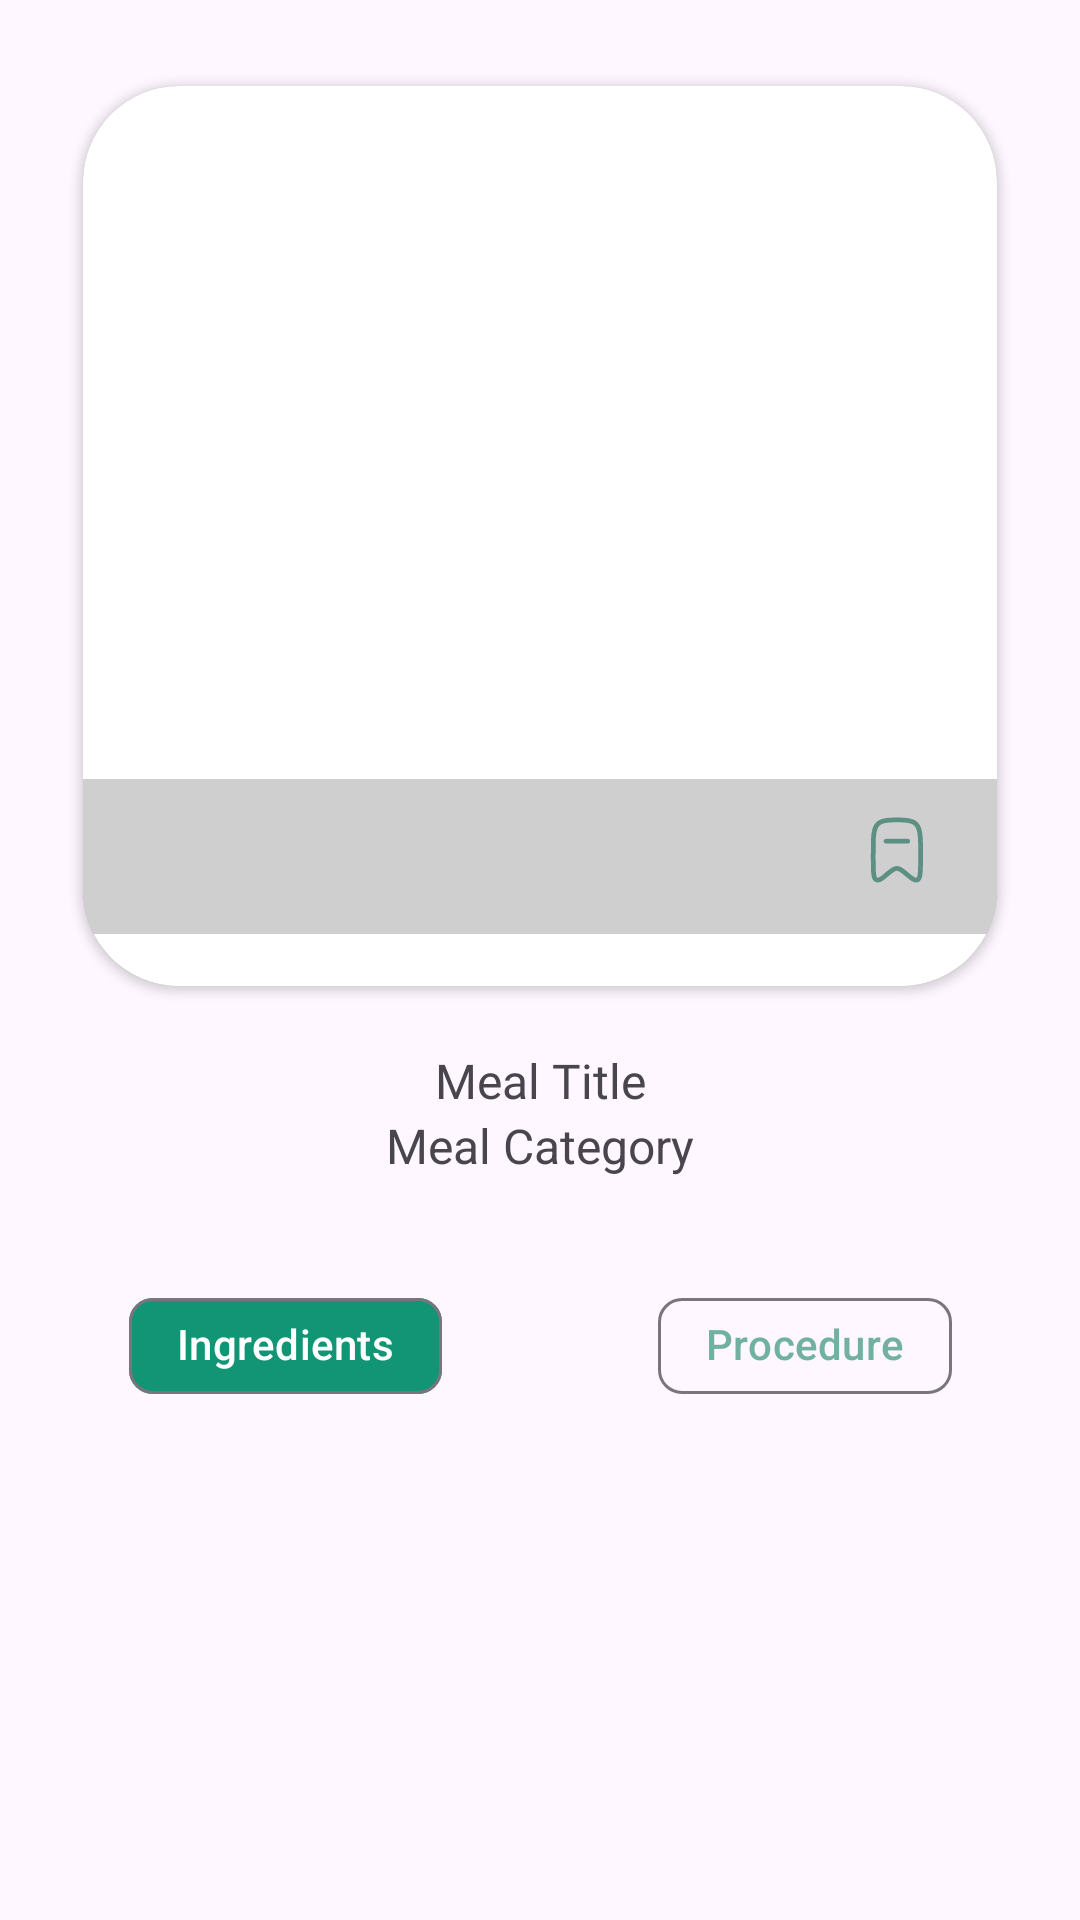

Screen size 1080*1920. Icon name, then its box in pixels as (x1, y1, x2, y2):
add to fav: (870, 817, 923, 883)
